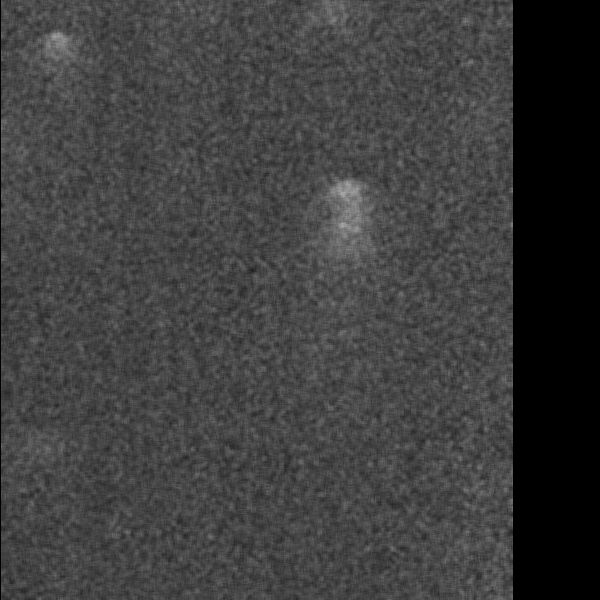spark: (320, 168, 370, 328), (41, 27, 71, 70)
